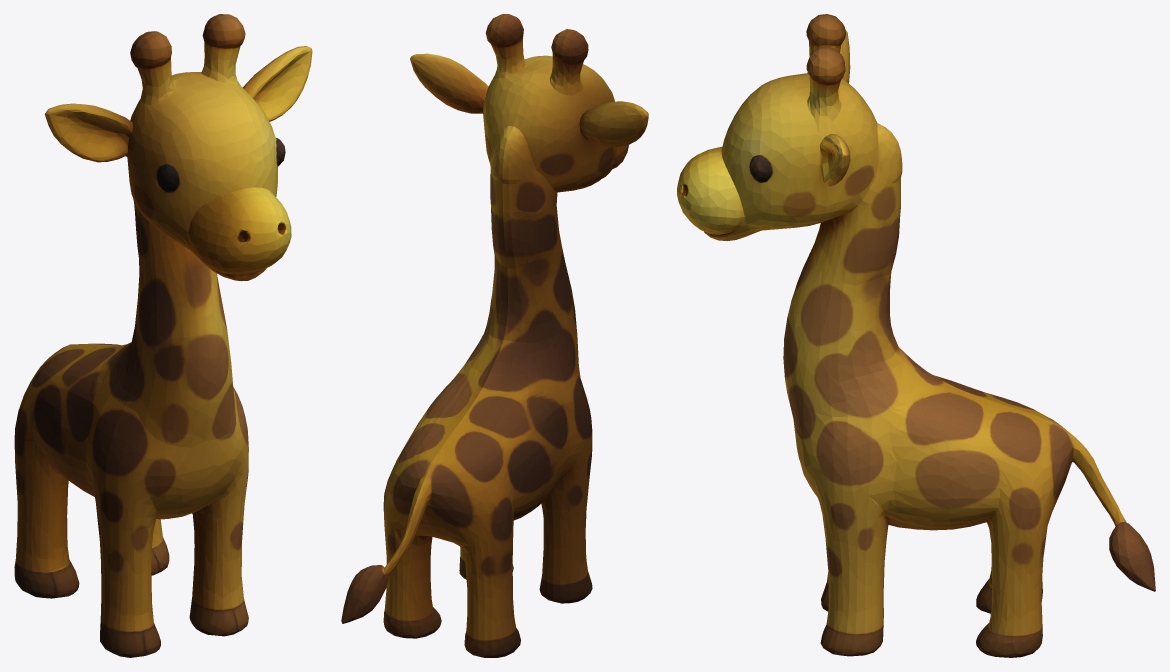
File: giraffe.glb
3 views of the same model, side by side, from view 1: azimuth 30°, elevation 25°; view 2: azimuth 150°, elevation 25°; view 3: azimuth 270°, elevation 25° (orthographic). The views are drawn at different scales.
Parts seen in each view (by area): view 1: world; view 2: world; view 3: world.
Boxes of the visible parts, bbox=[...] form: world: bbox=[14, 14, 312, 657]; world: bbox=[341, 14, 648, 657]; world: bbox=[677, 14, 1155, 657].
Bounding box in the file's own units: 0.4501 × 1 × 0.7304.
Materials: 1 (1 with a texture image).
